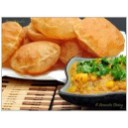poori: (73, 18, 125, 57), (11, 42, 61, 74), (30, 17, 80, 40), (2, 21, 21, 65)
